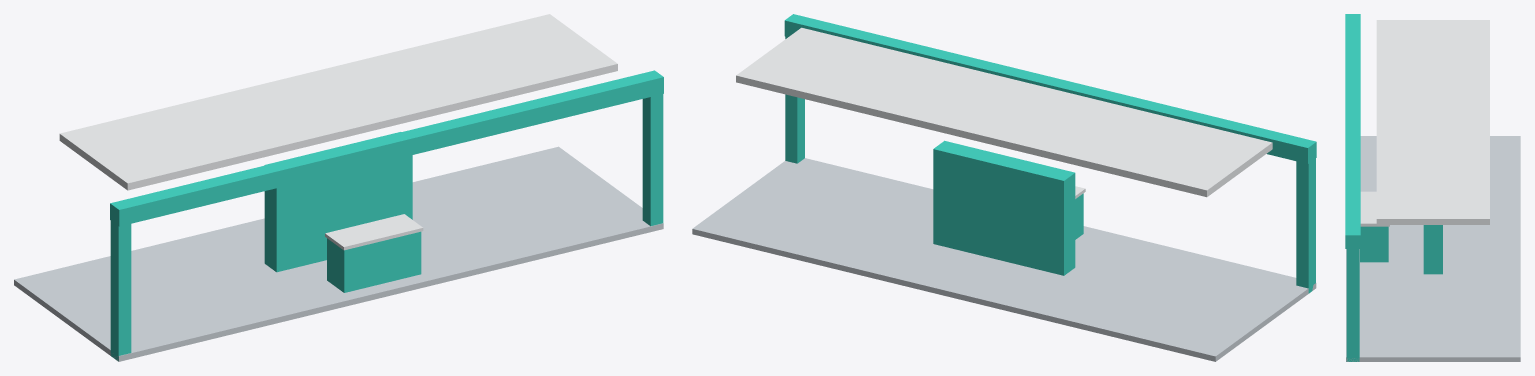
3 views of the same model, side by side, from view 1: azimuth 30°, elevation 25°; view 2: azimuth 150°, elevation 25°; view 3: azimuth 270°, elevation 25° (orthographic). The views are drawn at different scales.
Parts seen in each view (by area): view 1: Exhibition Booth Concept; view 2: Exhibition Booth Concept; view 3: Exhibition Booth Concept.
Boxes of the visible parts, x1,y1,x2,y2 form: Exhibition Booth Concept: [14, 14, 663, 361]; Exhibition Booth Concept: [692, 14, 1316, 361]; Exhibition Booth Concept: [1345, 14, 1520, 361].
Size of the model in its own units: 12 by 3.34 by 4.02.
